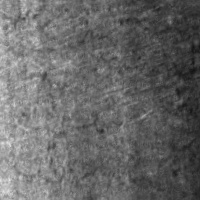crazing: (0, 0, 183, 57), (2, 115, 110, 190), (158, 41, 200, 182)
